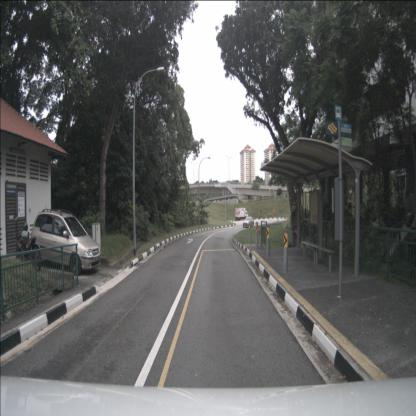vehicle-car: (31, 211, 101, 276), (243, 216, 254, 228)
vehicle-motorcycle: (13, 222, 41, 272)
vehicle-truck: (235, 207, 249, 221)
